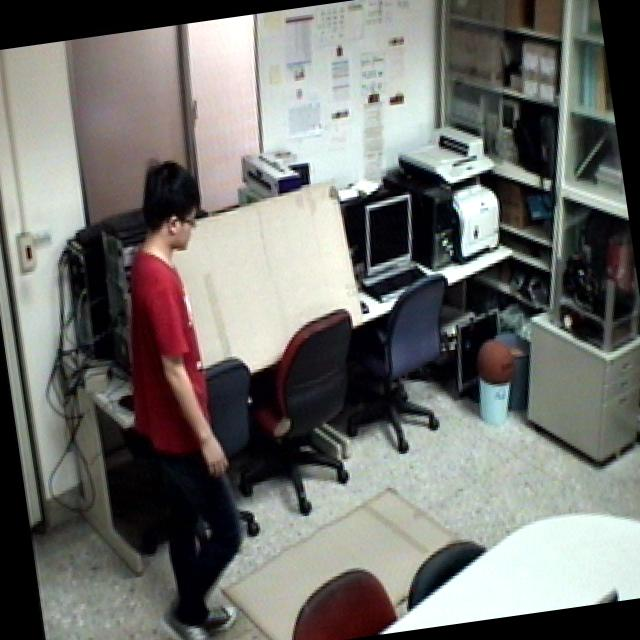stand: (82, 135, 283, 640)
